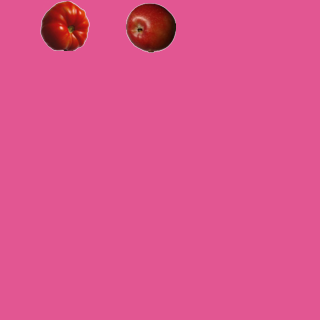Apple Braeburn: (125, 2, 175, 52)
Tomato 3: (39, 0, 89, 50)
